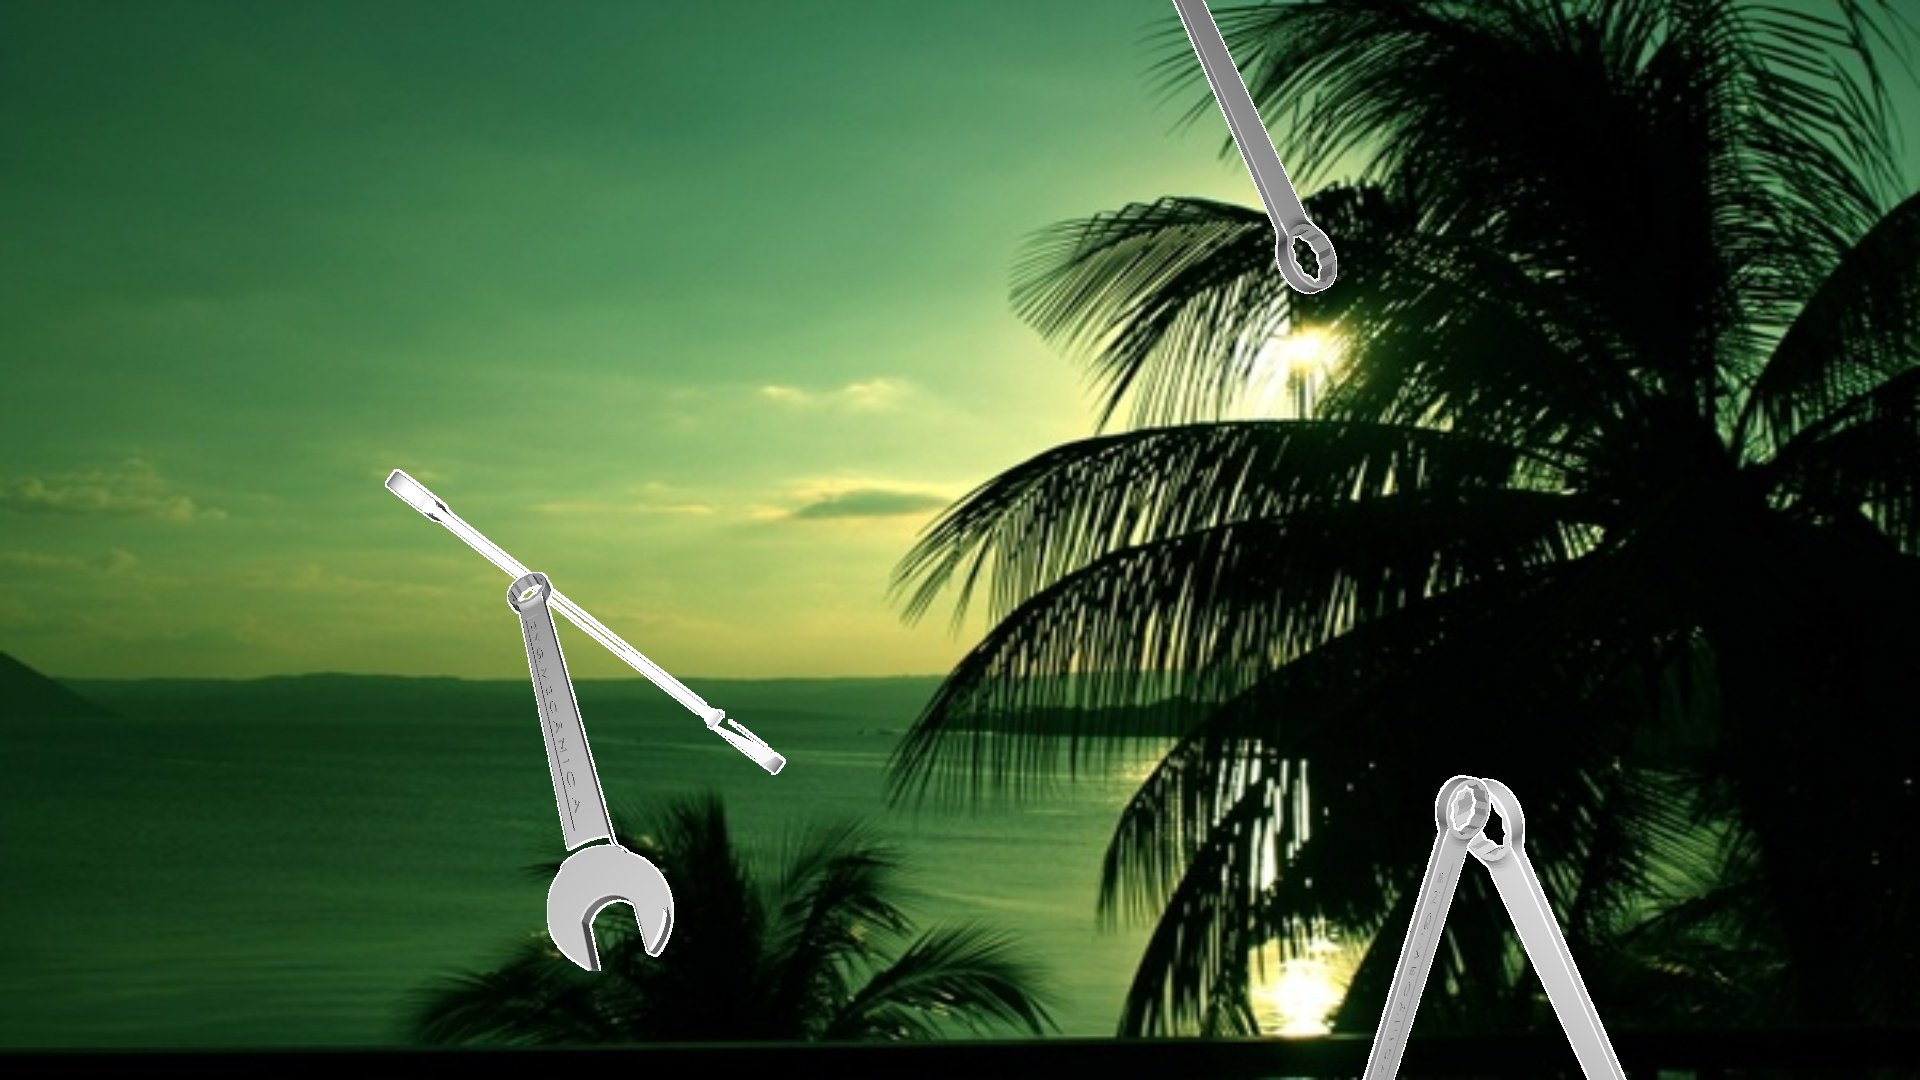Mixed Key: (385, 469, 785, 774), (506, 572, 673, 971), (1452, 778, 1626, 1079), (1172, 0, 1336, 293), (1362, 775, 1490, 1079)
